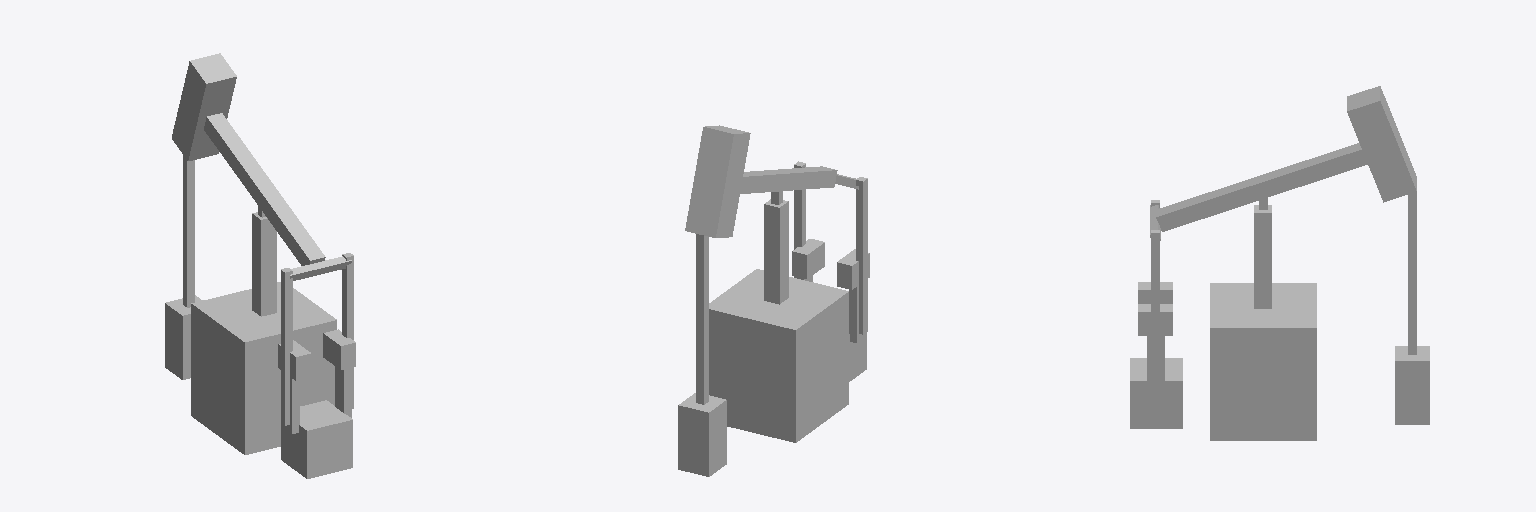
Rendered from oilgetter.obj.
3 views of the same model, side by side, from view 1: azimuth 30°, elevation 25°; view 2: azimuth 150°, elevation 25°; view 3: azimuth 270°, elevation 25° (orthographic).
Parts seen in each view (by area): view 1: cube, cube.002, cube.003, cube.009, cube.000, cube.005, cube.004, cube.007, cube.012, cube.008, cube.013, cube.011 (+2 smaller); view 2: cube, cube.003, cube.005, cube.000, cube.004, cube.002, cube.007, cube.012, cube.013, cube.008, cube.009, cube.010; view 3: cube, cube.002, cube.003, cube.009, cube.005, cube.000, cube.004, cube.008, cube.012, cube.013, cube.011.
Boxes of the visible parts, x1=… form: cube: x1=191, y1=282, x2=336, y2=454; cube.002: x1=204, y1=113, x2=325, y2=265; cube.003: x1=172, y1=53, x2=236, y2=160; cube.009: x1=281, y1=400, x2=352, y2=478; cube.000: x1=252, y1=212, x2=276, y2=316; cube.005: x1=165, y1=295, x2=202, y2=379; cube.004: x1=183, y1=155, x2=194, y2=307; cube.007: x1=281, y1=268, x2=292, y2=425; cube.012: x1=323, y1=329, x2=355, y2=369; cube.008: x1=342, y1=253, x2=353, y2=408; cube.013: x1=278, y1=340, x2=311, y2=380; cube.011: x1=335, y1=366, x2=351, y2=417; cube: x1=709, y1=269, x2=848, y2=442; cube.003: x1=685, y1=125, x2=750, y2=237; cube.005: x1=678, y1=393, x2=726, y2=476; cube.000: x1=764, y1=199, x2=788, y2=304; cube.004: x1=696, y1=234, x2=708, y2=404; cube.002: x1=740, y1=166, x2=837, y2=193; cube.007: x1=856, y1=177, x2=867, y2=334; cube.012: x1=792, y1=239, x2=824, y2=278; cube.013: x1=837, y1=249, x2=869, y2=289; cube.008: x1=794, y1=161, x2=805, y2=277; cube.009: x1=849, y1=333, x2=866, y2=381; cube.010: x1=849, y1=286, x2=864, y2=342; cube: x1=1210, y1=283, x2=1316, y2=440; cube.002: x1=1156, y1=143, x2=1367, y2=231; cube.003: x1=1347, y1=86, x2=1416, y2=202; cube.009: x1=1130, y1=358, x2=1182, y2=428; cube.005: x1=1395, y1=346, x2=1429, y2=424; cube.000: x1=1254, y1=205, x2=1271, y2=308; cube.004: x1=1408, y1=192, x2=1416, y2=354; cube.008: x1=1151, y1=230, x2=1159, y2=386; cube.012: x1=1138, y1=304, x2=1172, y2=335; cube.013: x1=1138, y1=282, x2=1172, y2=303; cube.011: x1=1147, y1=336, x2=1164, y2=391.
Size of the model in its own units: 0.75 by 2.52 by 2.11.